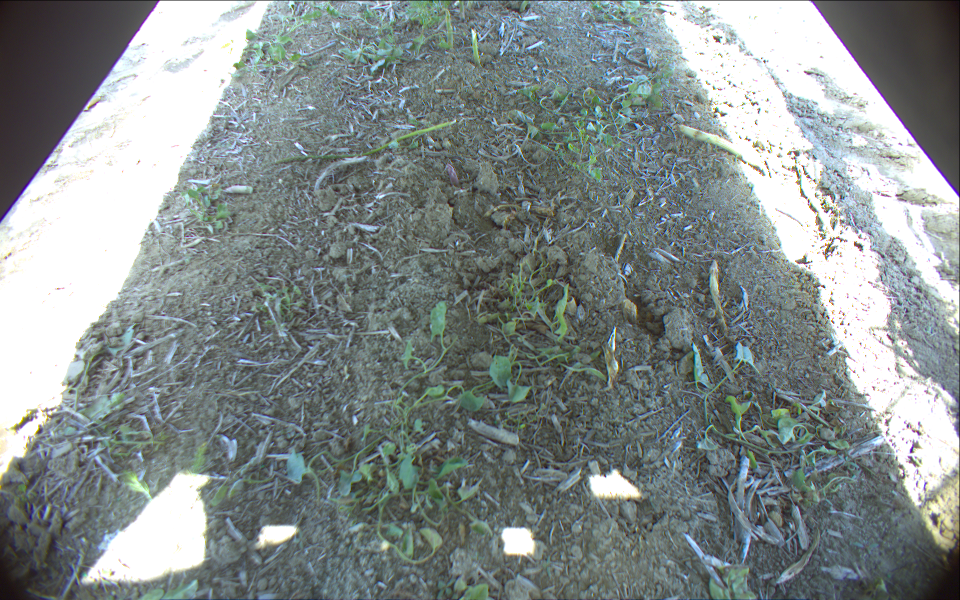aspa: (266, 121, 458, 166), (677, 122, 765, 174), (470, 29, 481, 64), (444, 8, 450, 48), (459, 1, 465, 20)
